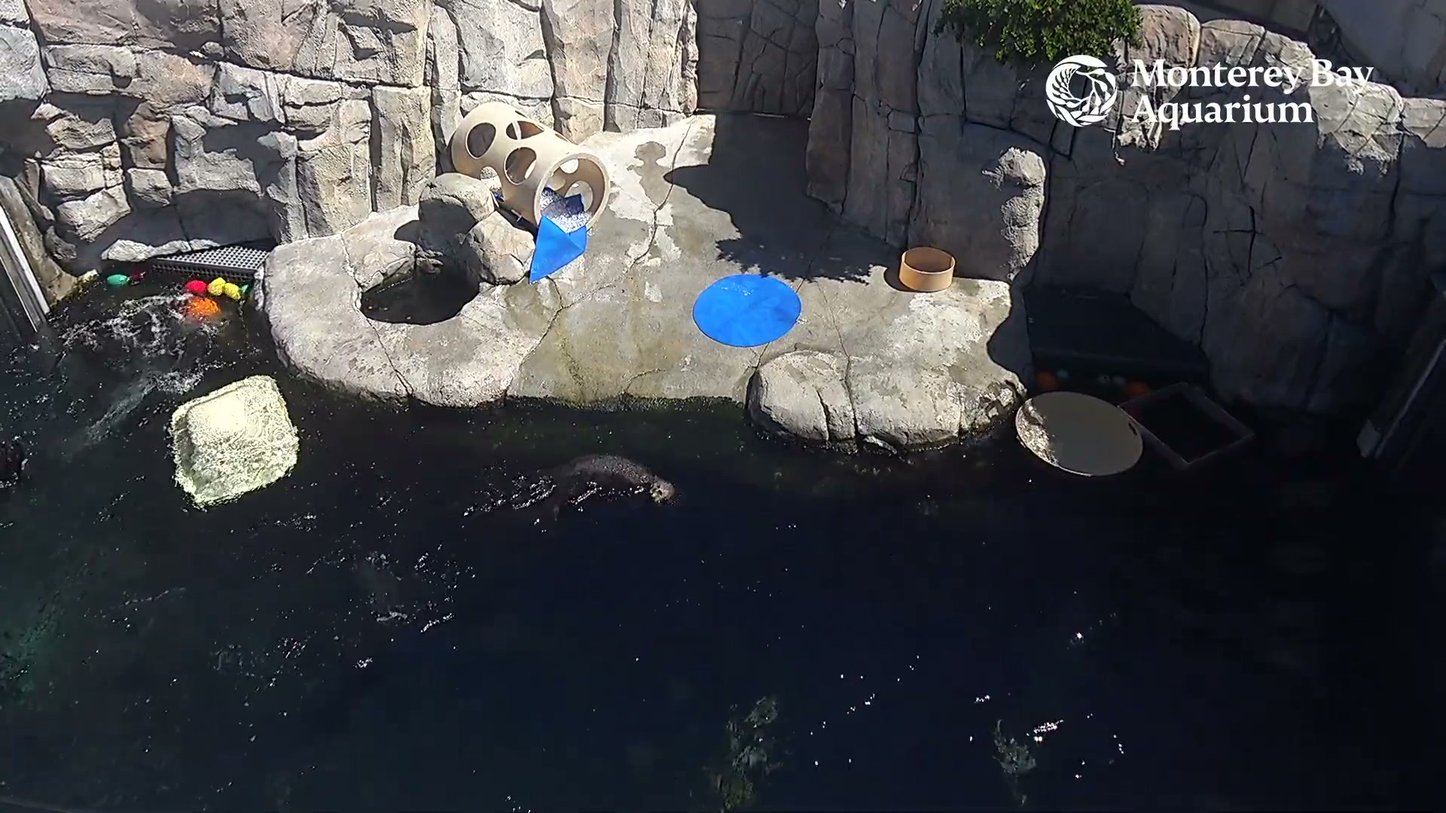Southern Sea Otter: (449, 454, 742, 535)
